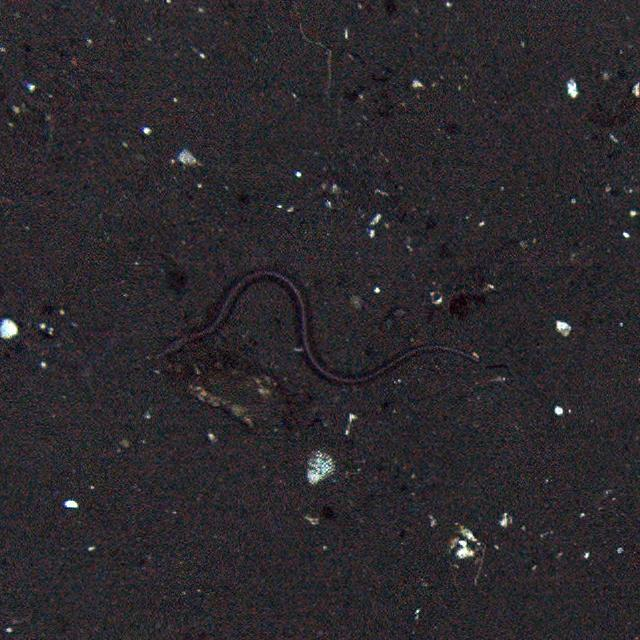eel: (161, 268, 483, 388)
